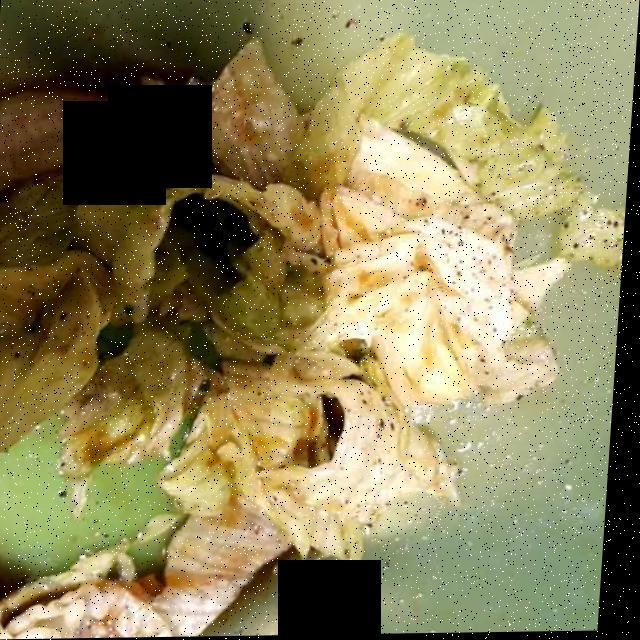salad: (0, 37, 611, 623)
